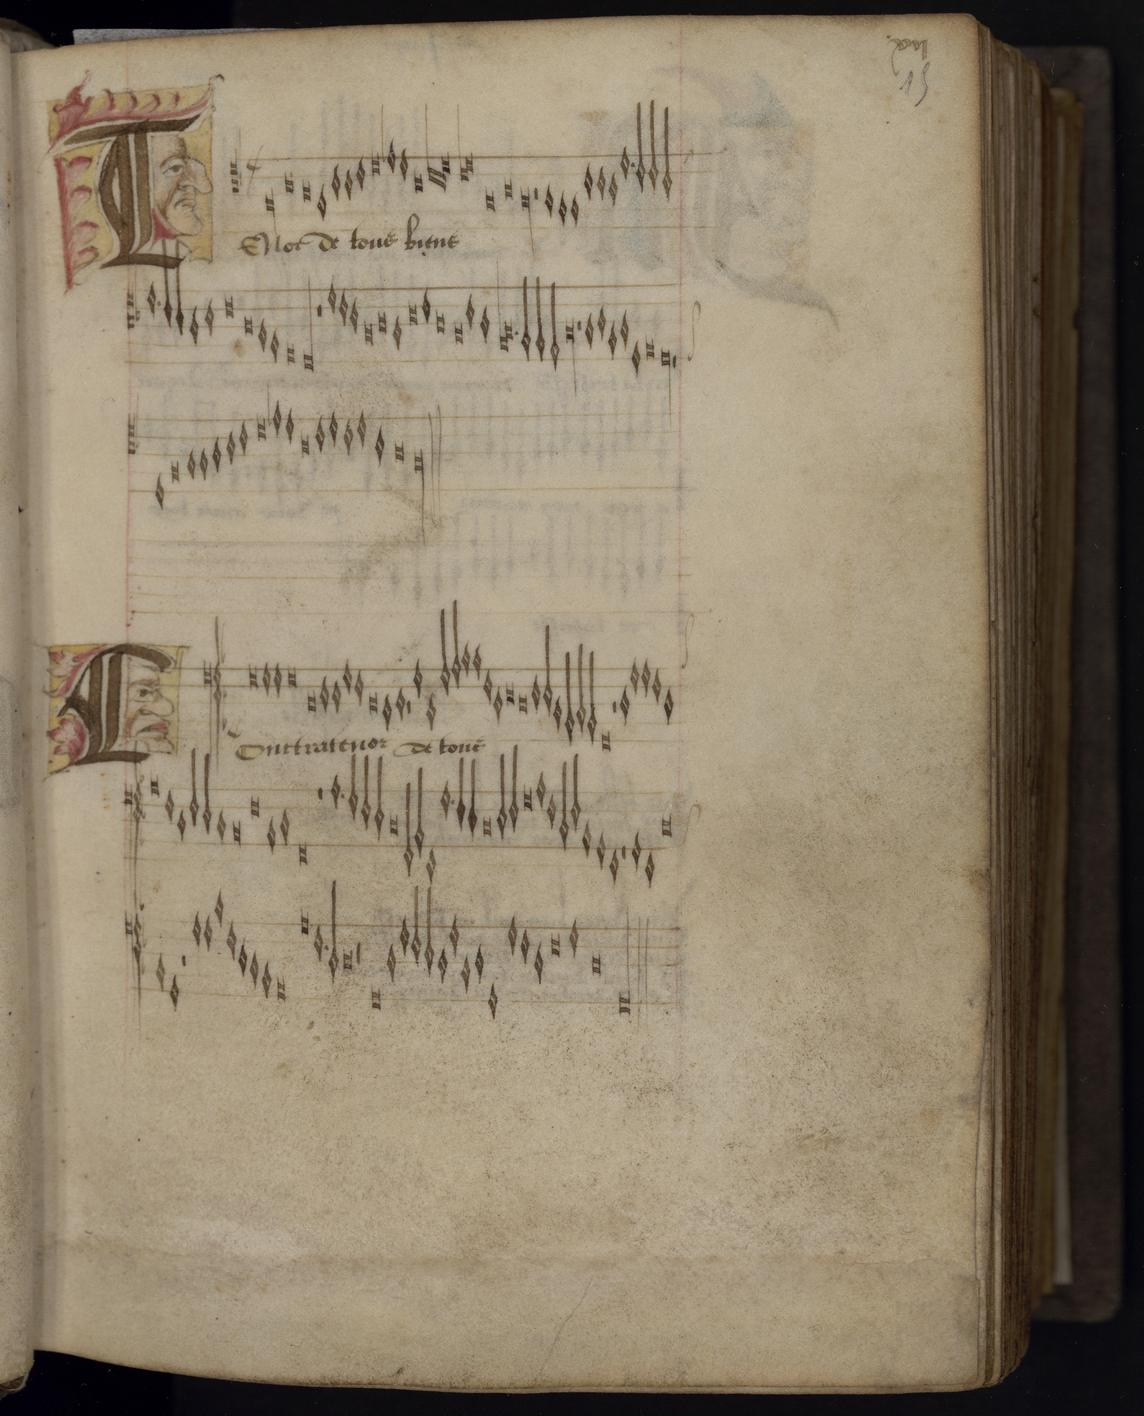breve_10: (292, 836, 313, 870)
breve_3: (142, 770, 163, 801)
breve_4: (519, 783, 537, 815)
breve_5: (244, 788, 265, 822)
breve_7: (654, 809, 677, 843), (385, 810, 403, 840), (477, 812, 496, 840)
breve_8: (226, 816, 246, 851)
custos_9: (677, 814, 692, 849)
dot: (444, 787, 456, 811), (337, 786, 350, 807)
f clef_5: (118, 775, 148, 859)
flat_2: (132, 737, 149, 787)
flat_9: (139, 821, 149, 858)
minim_10: (402, 777, 416, 873)
minim_4: (346, 748, 361, 823)
minim_5: (505, 747, 523, 835), (184, 749, 202, 832), (567, 749, 584, 833), (363, 749, 374, 833)
minim_6: (198, 749, 215, 842), (497, 748, 512, 843), (371, 755, 386, 842)
minim_7: (554, 760, 570, 853)
minim_8: (411, 770, 426, 859)
semibreve rest: (619, 788, 629, 870), (314, 781, 326, 847)
semibreve_11: (421, 842, 441, 879), (640, 846, 658, 881), (605, 846, 622, 880)
semibreve_3: (533, 767, 550, 810), (332, 770, 340, 805)
semibreve_4: (435, 777, 454, 821)
semibreve_5: (159, 783, 177, 826), (543, 789, 559, 831)
semibreve_7: (275, 802, 293, 847), (211, 805, 229, 847), (173, 804, 191, 843)
semibreve_8: (577, 815, 595, 859), (261, 812, 275, 852)
semibreve_9: (627, 826, 646, 872), (593, 826, 609, 871)
semiminim_5: (453, 755, 467, 832)
semiminim_6: (463, 756, 479, 842)
